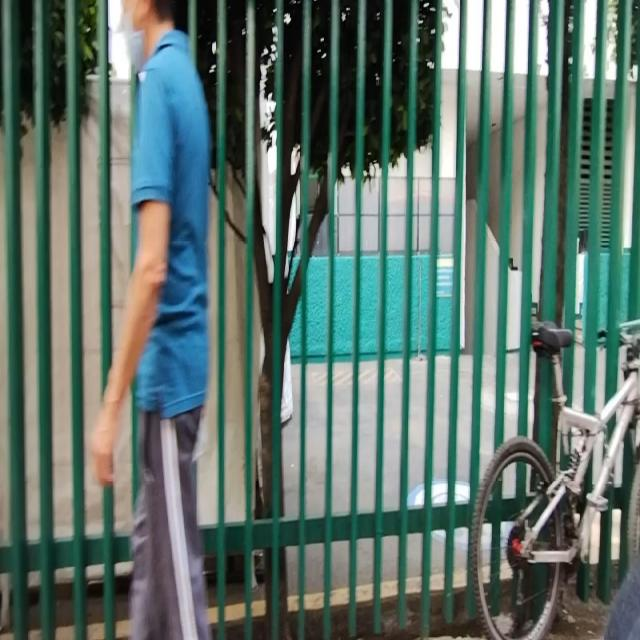adult: (93, 0, 210, 640)
